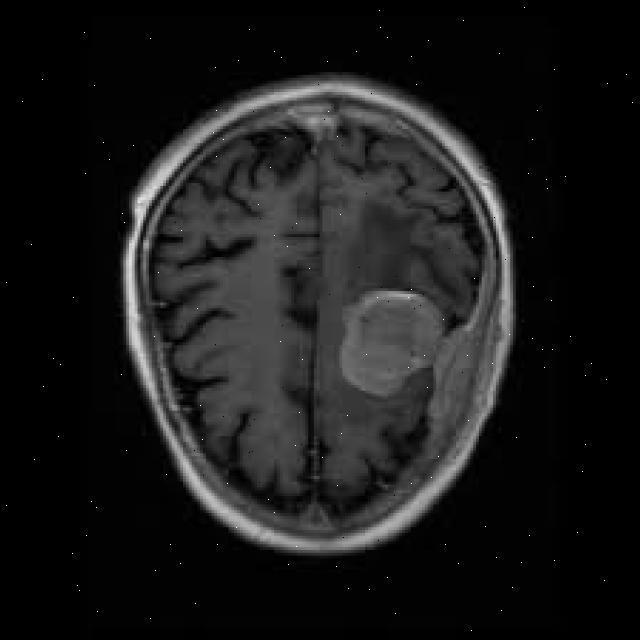Meningioma: (339, 290, 477, 429)
